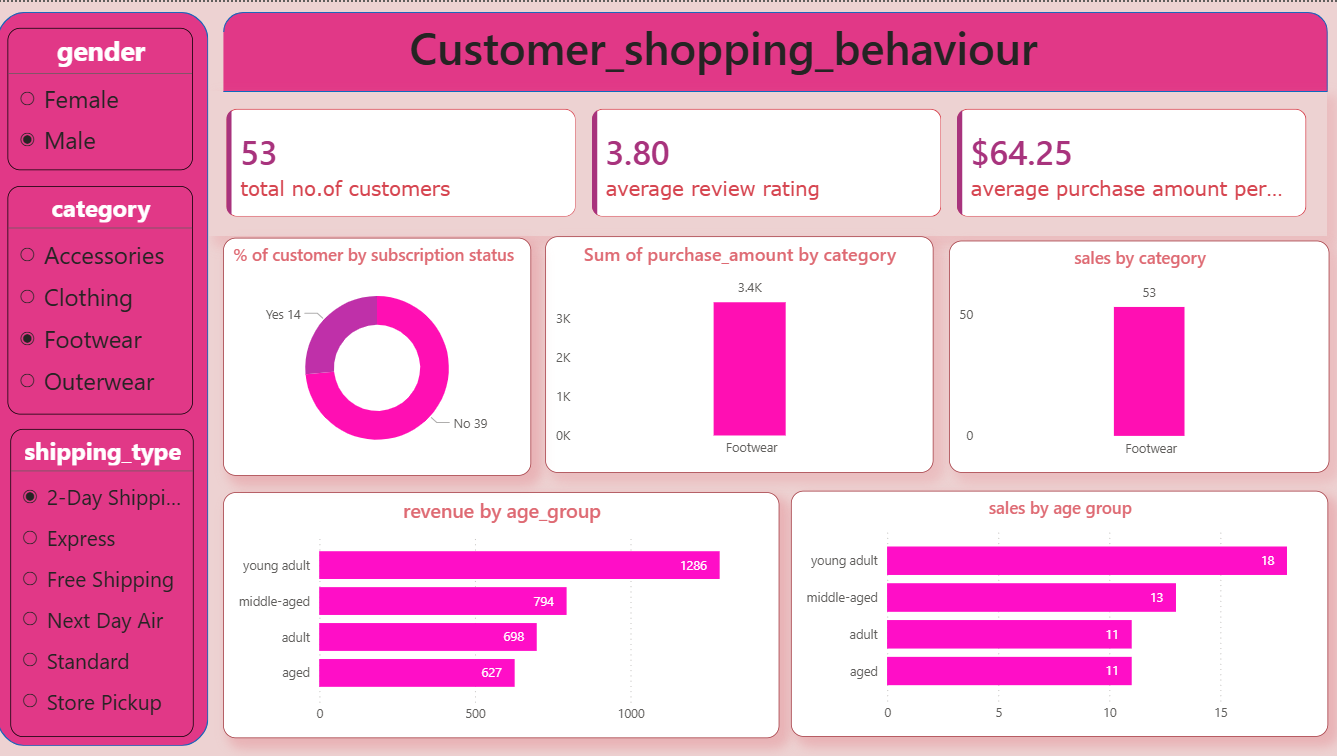

What the dashboard file says about the page in this screenshot:
{"tool":"powerbi","page":{"name":"Page 1","canvas":[1280,720],"ordinal":0},"visuals":[{"type":"shape","box":[216.4,9.1,1052.8,76.2],"z":0},{"type":"cardVisual","fields":{"Data":["new measures.total no.of customers","new measures.average review rating","new measures.average purchase amount per order"]},"box":[202.7,85.6,1065.8,137.6],"z":1000},{"type":"barChart","title":"revenue  by age_group","fields":{"Category":["customer_shopping_behavior mytable.age_group"],"Y":["Sum(customer_shopping_behavior mytable.purchase_amount)"]},"box":[215.8,466.9,530.1,234.4],"z":2000},{"type":"textbox","box":[388.7,9.3,835.1,76.3],"z":3000},{"type":"shape","box":[1.9,9.3,200.9,699.4],"z":4000},{"type":"listSlicer","fields":{"Values":["customer_shopping_behavior mytable.gender"]},"box":[11.2,24.2,176.7,135.8],"z":5000},{"type":"listSlicer","fields":{"Values":["customer_shopping_behavior mytable.category"]},"box":[11.2,174.8,176.7,217.6],"z":6000},{"type":"clusteredColumnChart","fields":{"Category":["customer_shopping_behavior mytable.category"],"Y":["Sum(customer_shopping_behavior mytable.purchase_amount)"]},"box":[522.7,223.2,370.1,225.1],"z":7000},{"type":"clusteredColumnChart","title":"sales by category","fields":{"Category":["customer_shopping_behavior mytable.category"],"Y":["new measures.total no.of customers"]},"box":[907.7,226.9,362.7,221.3],"z":8000},{"type":"barChart","title":"sales by age group","fields":{"Category":["customer_shopping_behavior mytable.age_group"],"Y":["new measures.total no.of customers"]},"box":[757.2,466.2,511.9,234.6],"z":9000},{"type":"listSlicer","fields":{"Values":["customer_shopping_behavior mytable.shipping_type"]},"box":[13,407.3,174.8,293.9],"z":10000},{"type":"donutChart","title":"% of customer by subscription status","fields":{"Category":["customer_shopping_behavior mytable.subscription_status"],"Y":["CountNonNull(customer_shopping_behavior mytable.customer_id)"]},"box":[215.8,225.1,293.9,226.9],"z":11000}]}

Visuals, with their boxes in screenshot pixels (x1, y1, x2, y2), scaled from the page's 1280x720 canvas onto the 1337x756 screenshot:
shape: pyautogui.locateOnScreen(226, 10, 1326, 90)
cardVisual - new measures.total no.of customers x new measures.average review rating: pyautogui.locateOnScreen(212, 90, 1325, 234)
"revenue  by age_group" barChart: pyautogui.locateOnScreen(225, 490, 779, 736)
textbox: pyautogui.locateOnScreen(406, 10, 1278, 90)
shape: pyautogui.locateOnScreen(2, 10, 212, 744)
listSlicer - customer_shopping_behavior mytable.gender: pyautogui.locateOnScreen(12, 25, 196, 168)
listSlicer - customer_shopping_behavior mytable.category: pyautogui.locateOnScreen(12, 184, 196, 412)
clusteredColumnChart - customer_shopping_behavior mytable.category x Sum(customer_shopping_behavior mytable.purchase_amount): pyautogui.locateOnScreen(546, 234, 933, 471)
"sales by category" clusteredColumnChart: pyautogui.locateOnScreen(948, 238, 1327, 471)
"sales by age group" barChart: pyautogui.locateOnScreen(791, 490, 1326, 736)
listSlicer - customer_shopping_behavior mytable.shipping_type: pyautogui.locateOnScreen(14, 428, 196, 736)
"% of customer by subscription status" donutChart: pyautogui.locateOnScreen(225, 236, 532, 475)
